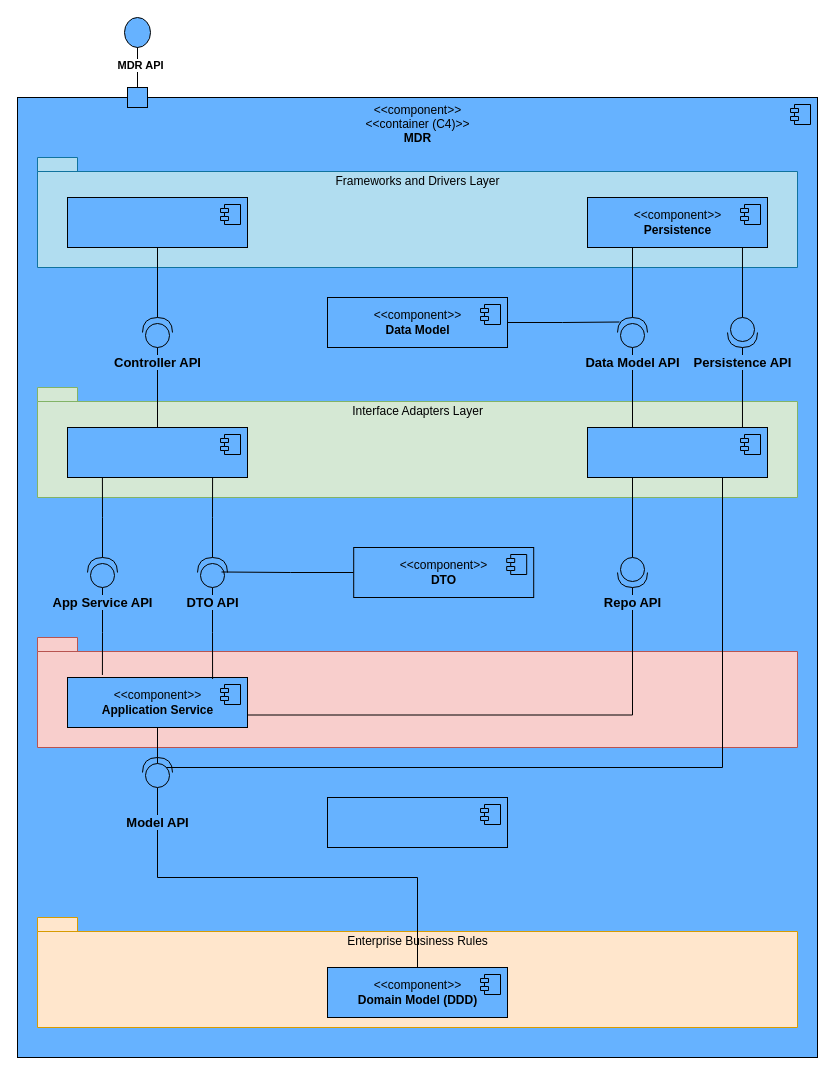
This 835x1075 diagram has some shape labels left out. The box of each missing label's shape, as (x1, y1, x2, y2) in pixels:
<<component>> Controller: (66, 426, 248, 478)
<<component>> Mapper: (326, 796, 508, 848)
<<component>> Repository: (586, 426, 768, 478)
<<component>> Routing: (66, 196, 248, 248)
Application Business Rules: (36, 636, 798, 748)
